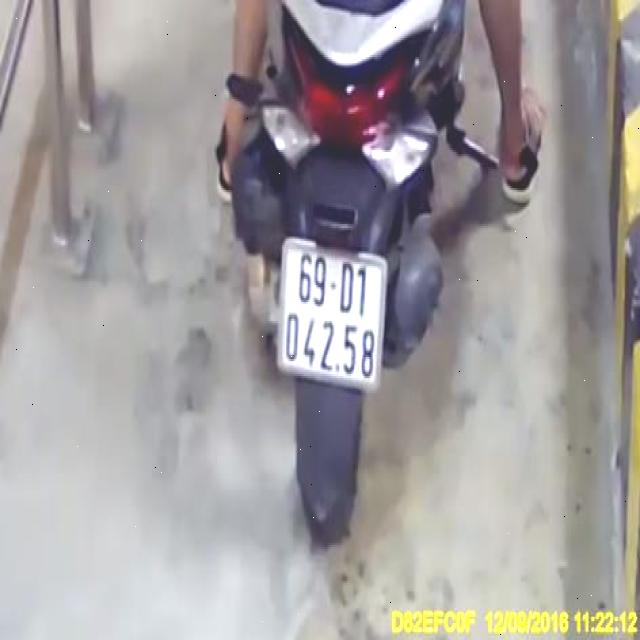0: (284, 308, 300, 362)
1: (356, 266, 367, 318)
2: (320, 319, 336, 375)
4: (304, 315, 317, 369)
5: (343, 321, 359, 375)
6: (298, 251, 312, 305)
8: (361, 327, 376, 379)
9: (314, 256, 328, 308)
D: (338, 261, 355, 314)
